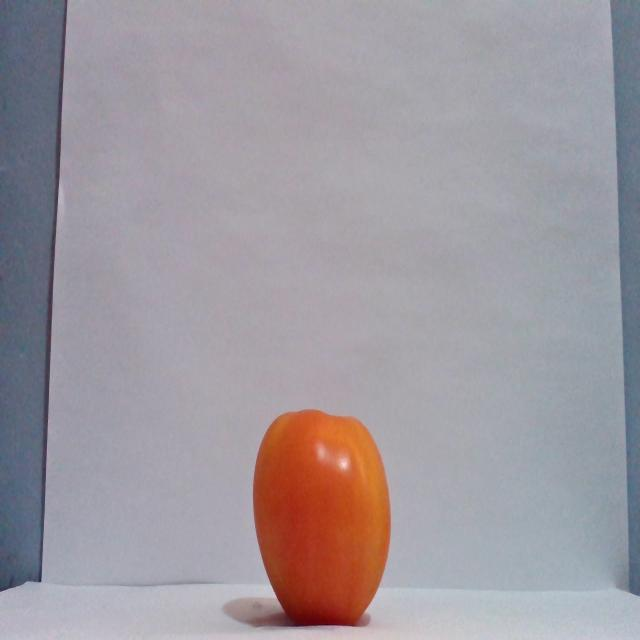Red: (251, 407, 392, 626)
